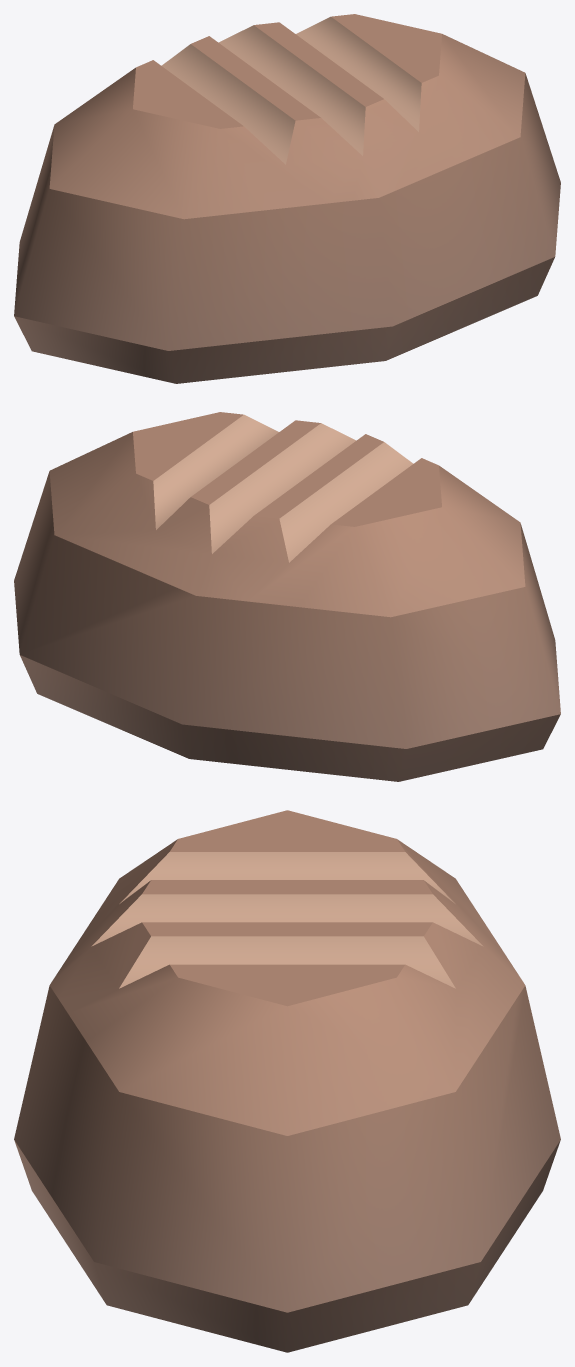
Rendered from loaf-round.glb.
3 renders of one model, top to bottom at view 1: azimuth 30°, elevation 25°; view 2: azimuth 150°, elevation 25°; view 3: azimuth 270°, elevation 25°, orthographic. The views are drawn at different scales.
Parts seen in each view (by area): view 1: loaf-round; view 2: loaf-round; view 3: loaf-round.
Part boxes in pixels (x1,y1,x2,y2): loaf-round: (14,14,560,383); loaf-round: (14,412,560,781); loaf-round: (14,810,560,1352).
Bounding box in the file's own units: 0.7717 × 0.2932 × 0.5145.
